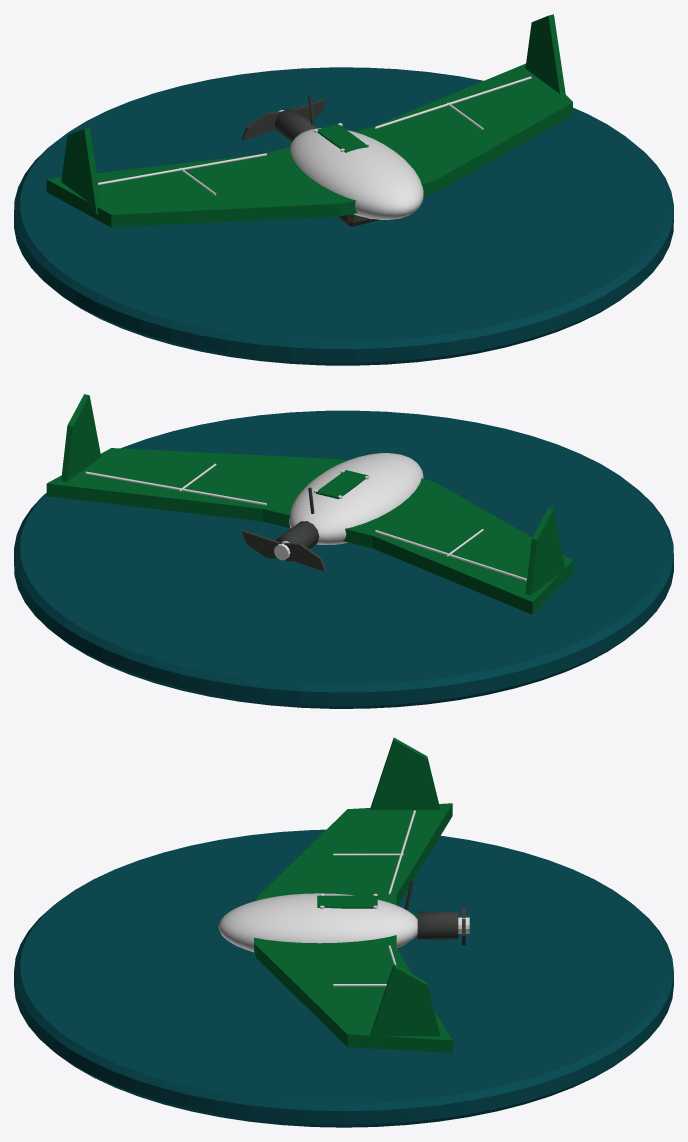
Rendered from ebee-x.glb.
3 views of the same model, one above another, from view 1: azimuth 30°, elevation 25°; view 2: azimuth 150°, elevation 25°; view 3: azimuth 270°, elevation 25° (orthographic).
Visible parts, largest first — view 1: pedestal, body; view 2: pedestal, body; view 3: pedestal, body.
Boxes of the visible parts, <box> form: pedestal: <box>14,67,673,365</box>; body: <box>46,14,572,227</box>; pedestal: <box>14,410,673,708</box>; body: <box>46,394,572,614</box>; pedestal: <box>14,829,673,1127</box>; body: <box>218,737,469,1052</box>.
Bounding box in the file's own units: 4.4 × 1.02 × 4.4.
